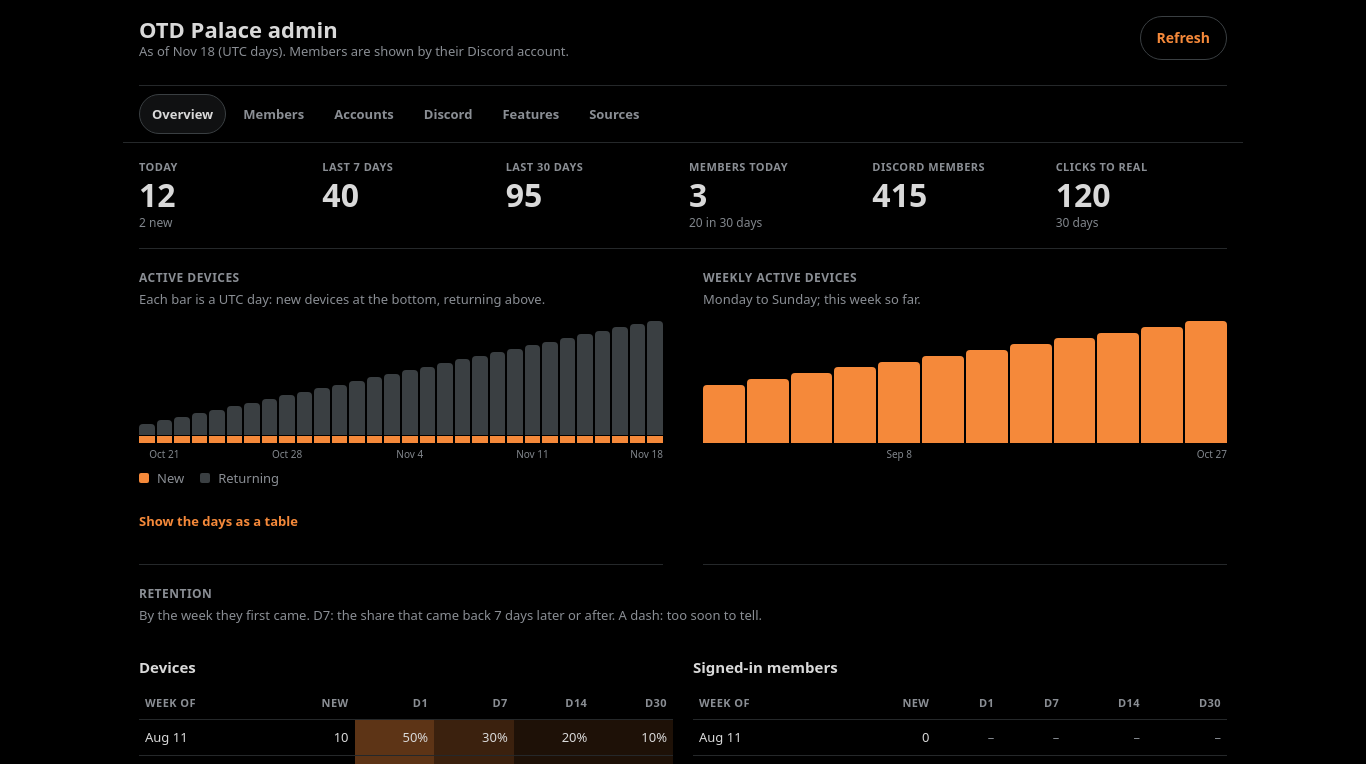
the admin panel's tabs › Sources: first touch to D7
Click the tab "Sources" at (614, 114), box [576,94,652,134]
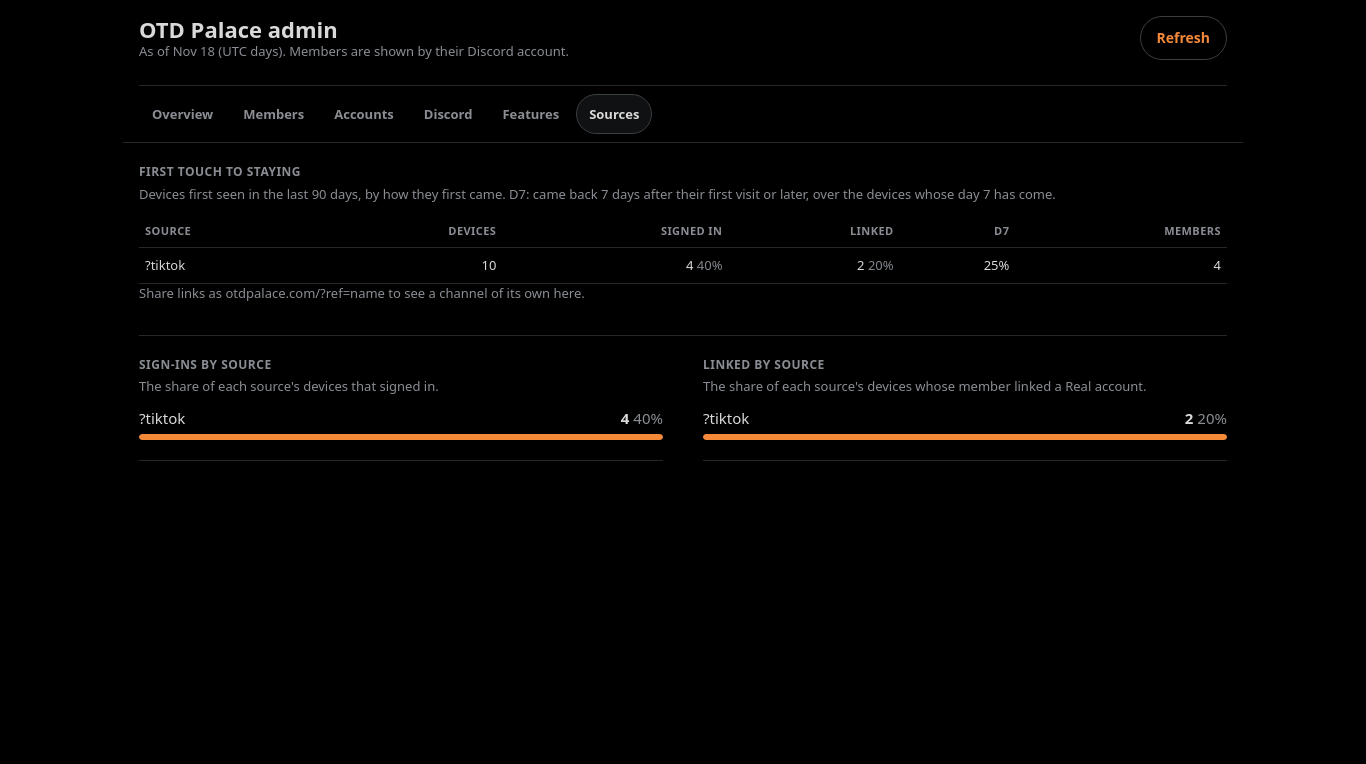
Result: the text "?tiktok" shows "40%" at [697,256,722,274]
Result: the text "?tiktok" shows "25%" at [984,256,1009,274]
